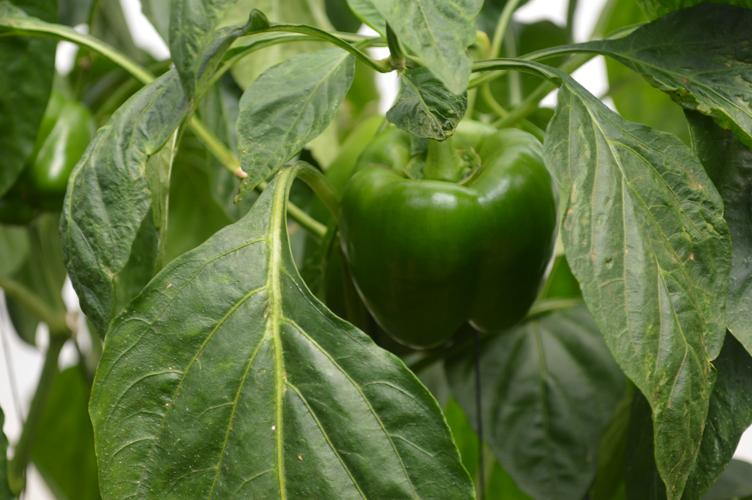BellPepper: (347, 119, 554, 341)
